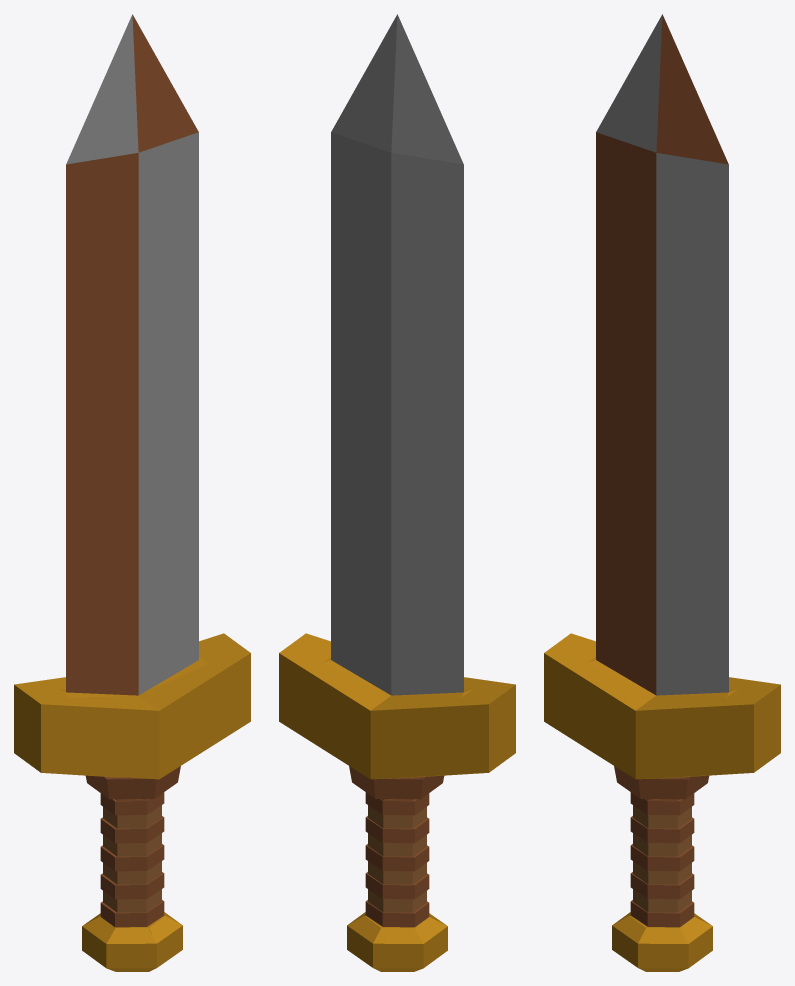
File: rotate.fbx
3 views of the same model, side by side, from view 1: azimuth 30°, elevation 25°; view 2: azimuth 150°, elevation 25°; view 3: azimuth 330°, elevation 25° (orthographic).
Parts seen in each view (by area): view 1: Sword; view 2: Sword; view 3: Sword.
Boxes of the visible parts, box(x1,y1,x2,y2) form: Sword: box(14, 14, 250, 971); Sword: box(279, 14, 515, 971); Sword: box(544, 14, 780, 971).
Size of the model in its own units: 56.39 by 243 by 25.06.
